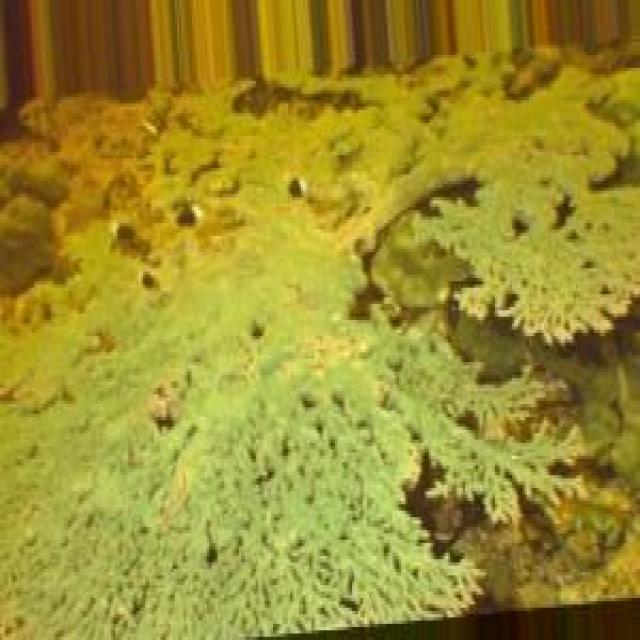Healthy: (16, 227, 451, 640), (370, 156, 640, 357)
